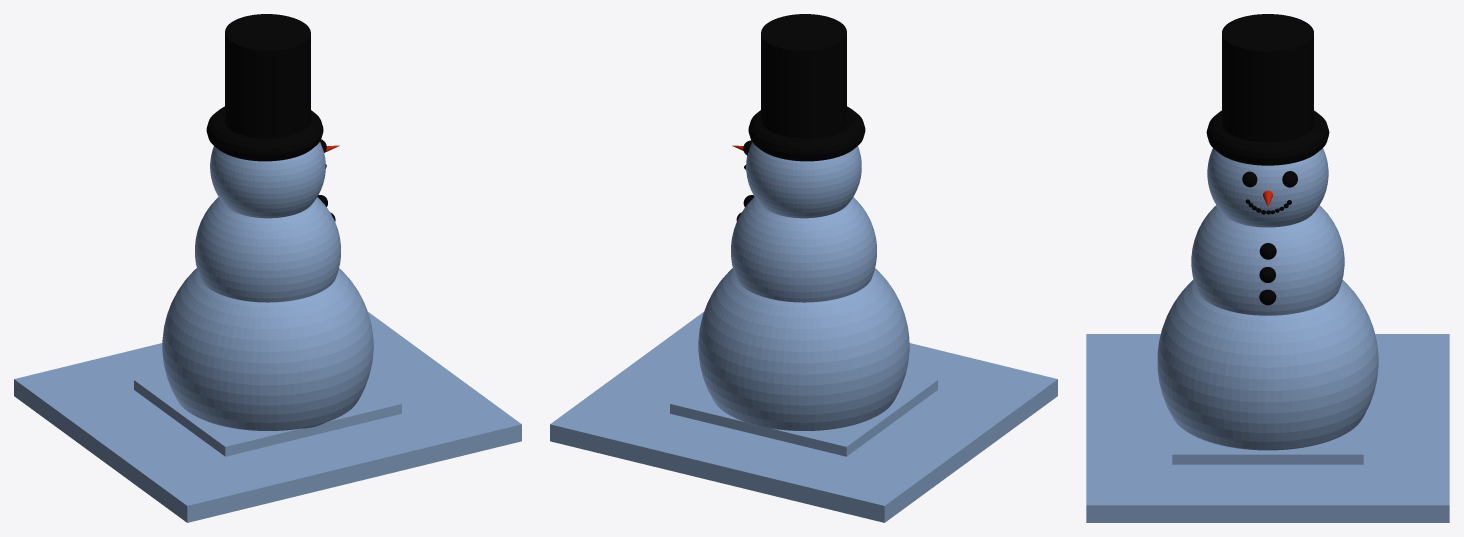
The model's file is nieve.obj.
3 renders of one model, left to right at view 1: azimuth 30°, elevation 25°; view 2: azimuth 150°, elevation 25°; view 3: azimuth 270°, elevation 25°, orthographic. The views are drawn at different scales.
Parts seen in each view (by area): view 1: Cube, Sphere, Sphere.001, Cylinder, Sphere.002, Cube.001, Torus.001; view 2: Cube, Sphere, Sphere.001, Cylinder, Sphere.002, Cube.001, Torus.001; view 3: Cube, Sphere, Sphere.001, Cylinder, Sphere.002, Cube.001, Torus.001.
Boxes of the visible parts, <box> form: Cube: <box>14,312,521,522</box>; Sphere: <box>162,268,373,430</box>; Sphere.001: <box>195,197,340,302</box>; Cylinder: <box>225,14,310,138</box>; Sphere.002: <box>210,142,325,218</box>; Cube.001: <box>134,372,401,456</box>; Torus.001: <box>206,106,323,161</box>; Cube: <box>550,312,1057,522</box>; Sphere: <box>698,268,909,430</box>; Sphere.001: <box>731,197,876,302</box>; Cylinder: <box>761,14,846,138</box>; Sphere.002: <box>746,142,861,218</box>; Cube.001: <box>670,372,937,456</box>; Torus.001: <box>748,106,865,161</box>; Cube: <box>1086,334,1449,522</box>; Sphere: <box>1157,279,1378,450</box>; Sphere.001: <box>1191,205,1344,315</box>; Cylinder: <box>1222,14,1313,142</box>; Sphere.002: <box>1207,148,1328,227</box>; Cube.001: <box>1172,417,1363,464</box>; Torus.001: <box>1206,110,1329,165</box>.
Size of the model in its own units: 7.56 by 8.87 by 6.78.
